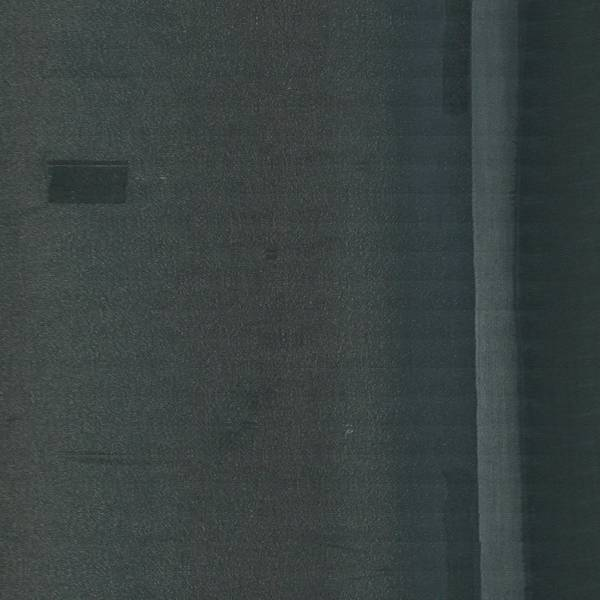road_damage: (42, 153, 132, 209)
